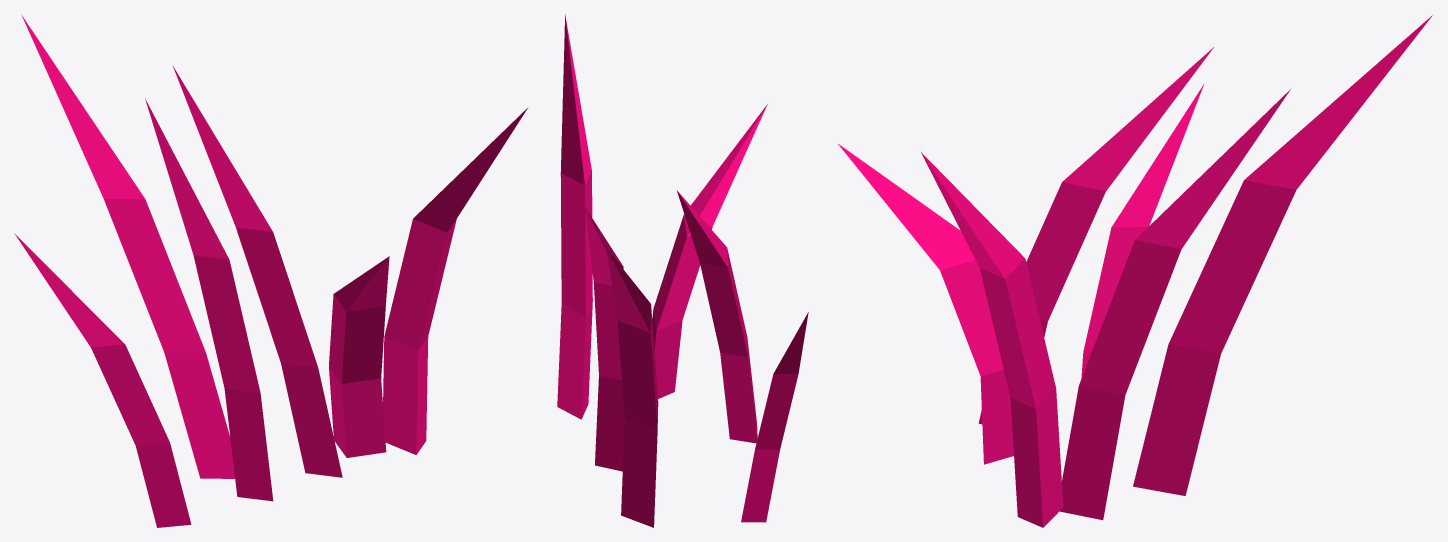
The model's file is SM_SS_Grass_4.fbx.
3 views of the same model, side by side, from view 1: azimuth 30°, elevation 25°; view 2: azimuth 150°, elevation 25°; view 3: azimuth 270°, elevation 25° (orthographic). The views are drawn at different scales.
Visible parts, largest first — view 1: SM_SS_Grass_4; view 2: SM_SS_Grass_4; view 3: SM_SS_Grass_4.
Boxes of the visible parts, x1,y1,x2,y2 form: SM_SS_Grass_4: (14, 14, 528, 527); SM_SS_Grass_4: (557, 14, 808, 527); SM_SS_Grass_4: (838, 14, 1433, 527).
Bounding box in the file's own units: 23.66 × 28.64 × 23.91.
